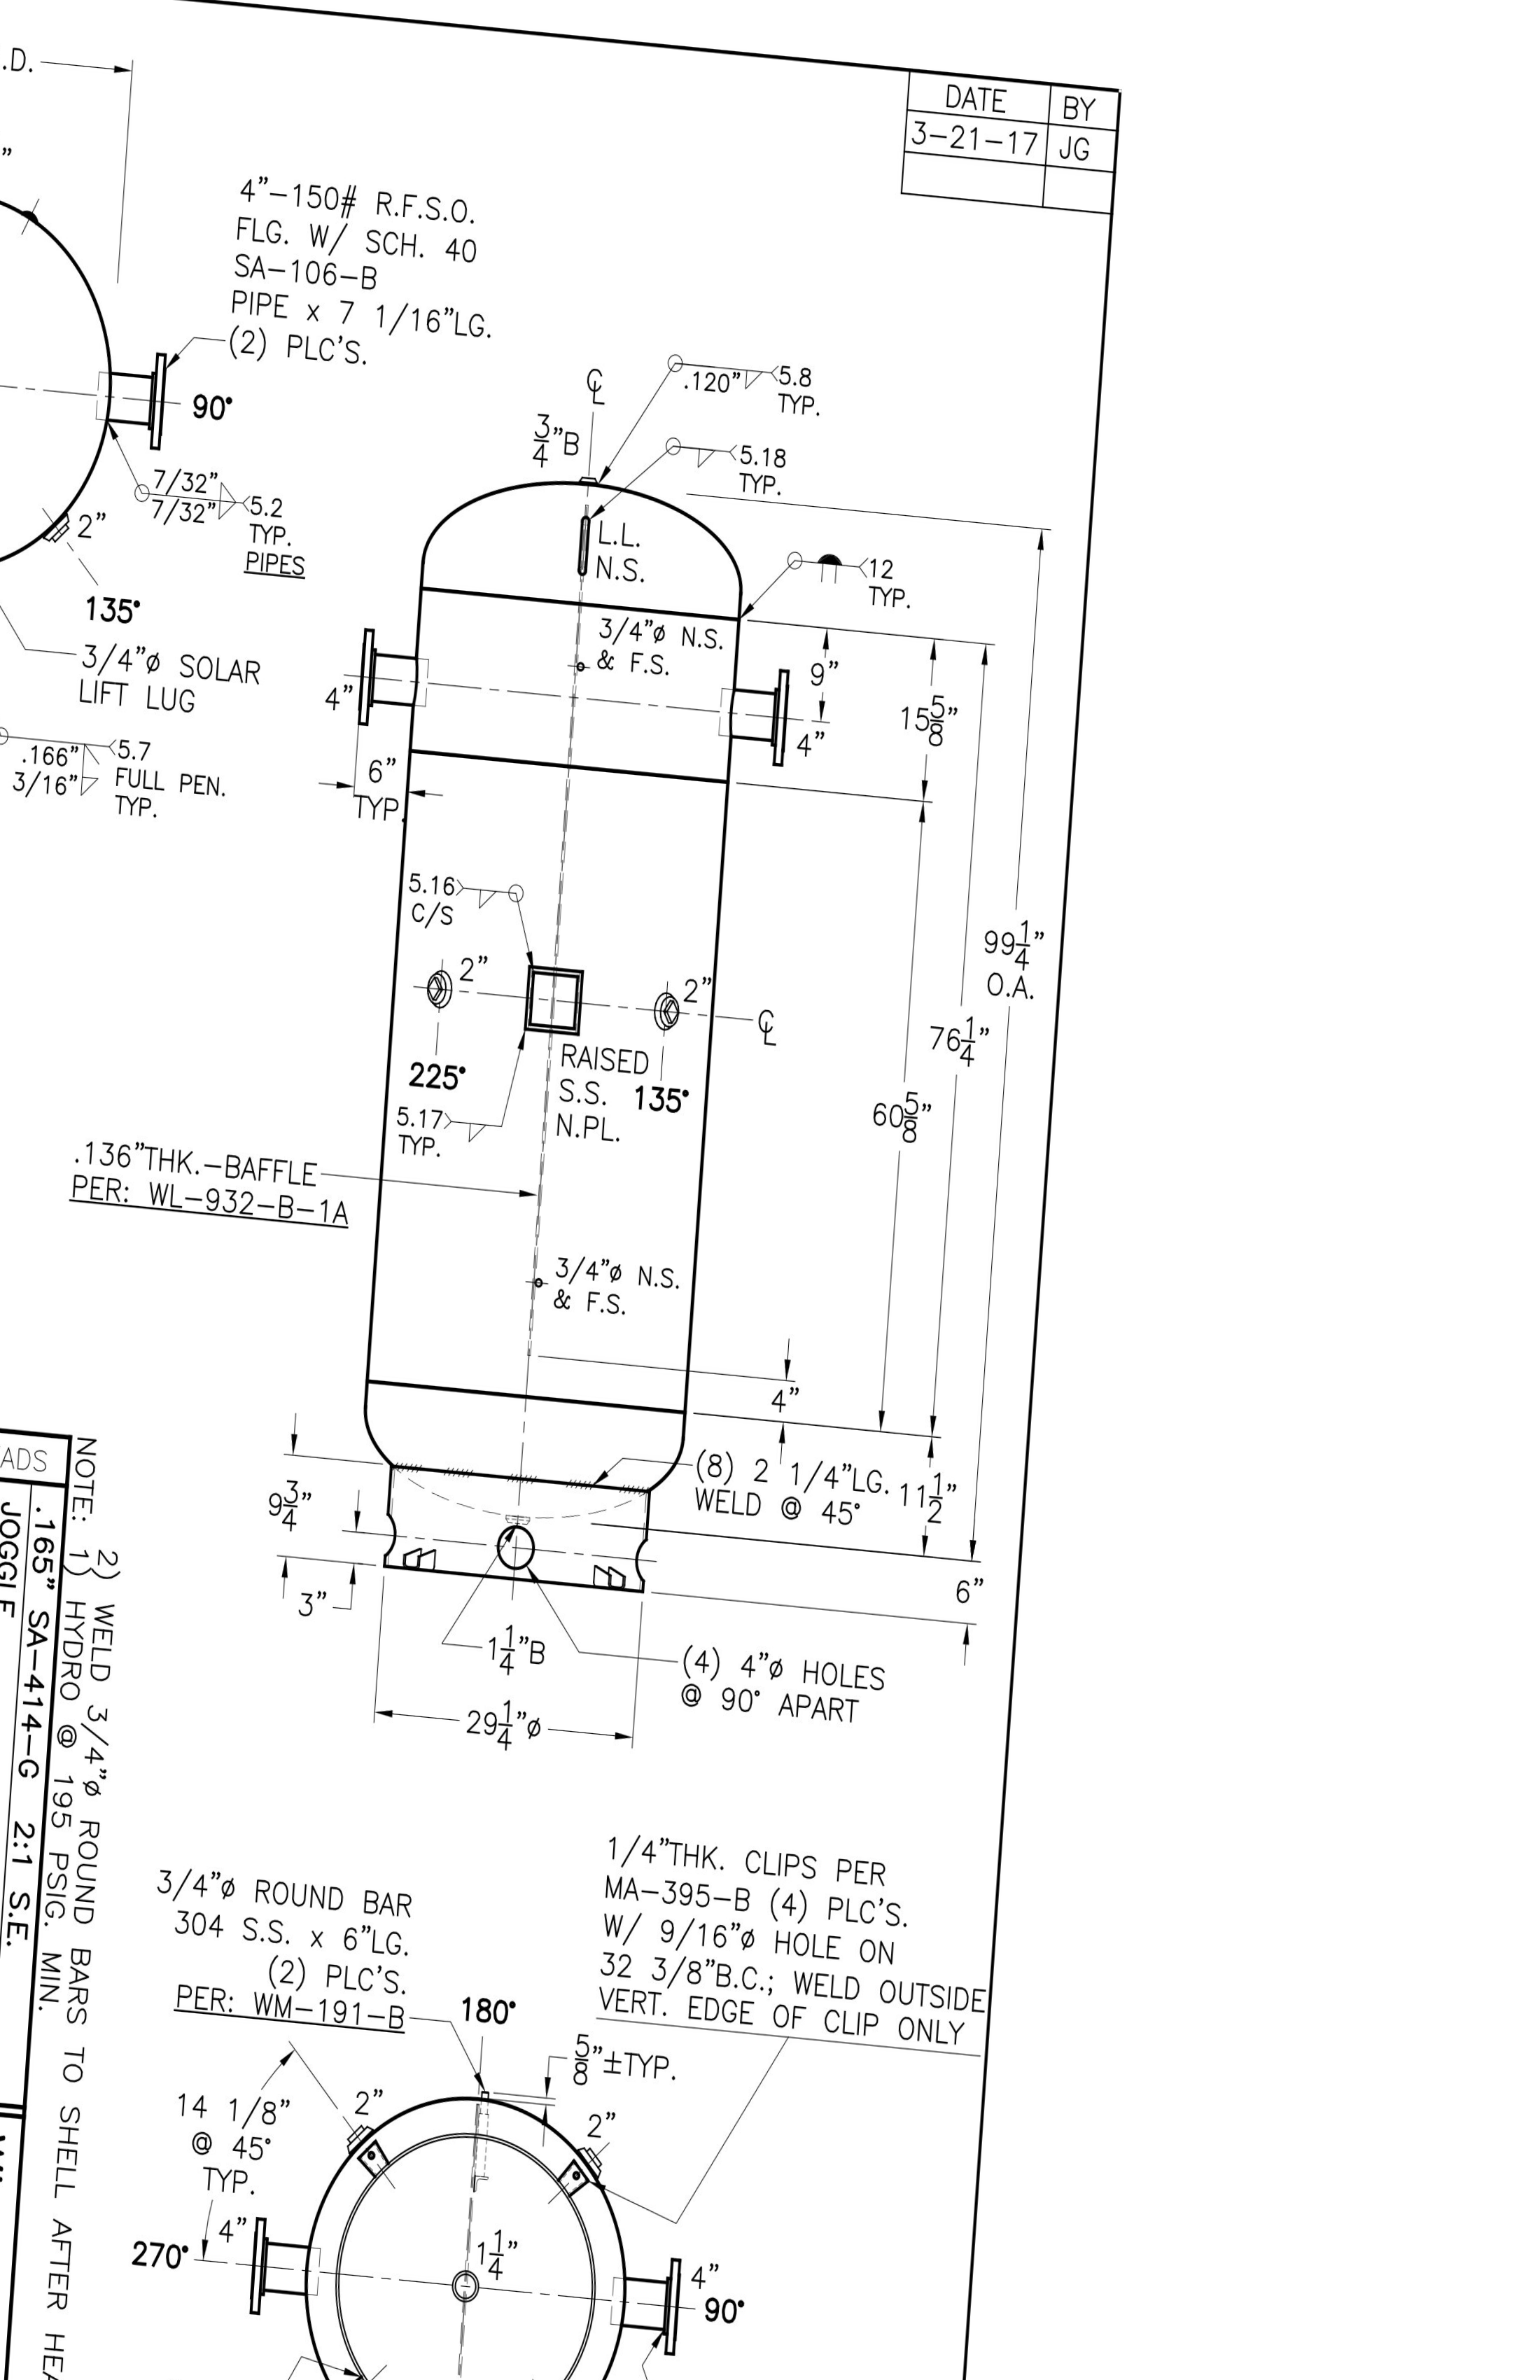Nozzle: (690, 652, 831, 786), (76, 337, 217, 468), (333, 609, 454, 749), (605, 2239, 734, 2368), (238, 2187, 345, 2337)
